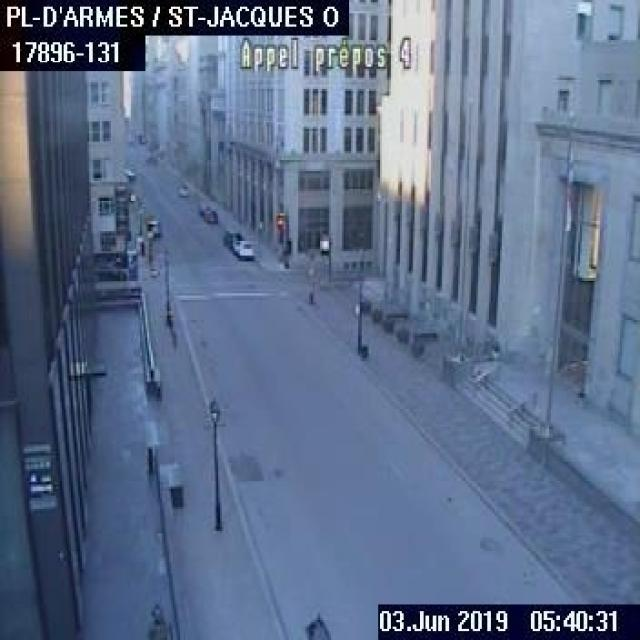vehicle: (93, 260, 126, 278), (232, 237, 253, 257), (220, 228, 240, 247), (203, 208, 217, 222), (196, 200, 209, 213), (176, 181, 188, 195)
